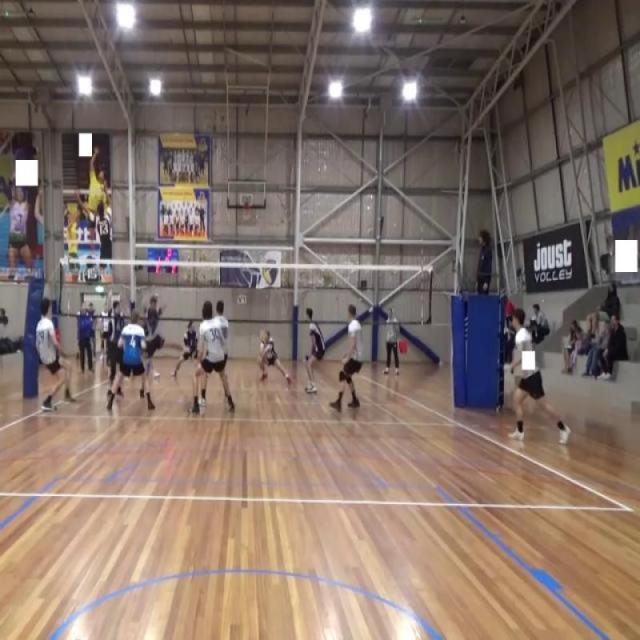volleyball: (258, 328, 270, 344)
